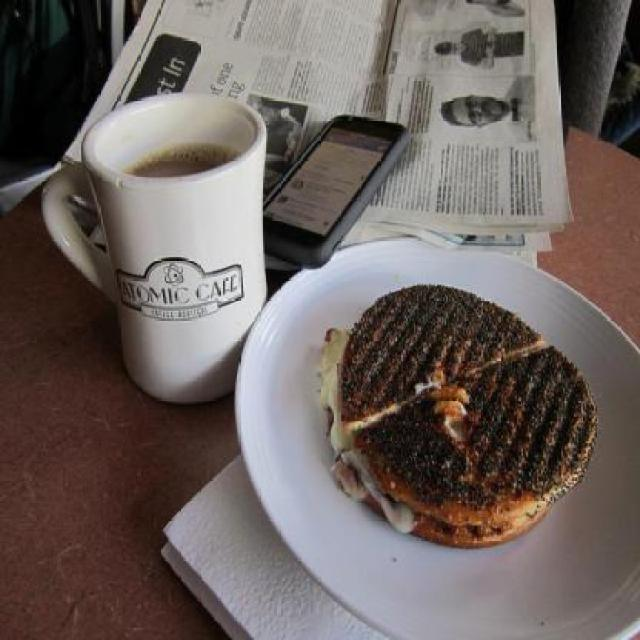Person: (434, 24, 528, 71)
